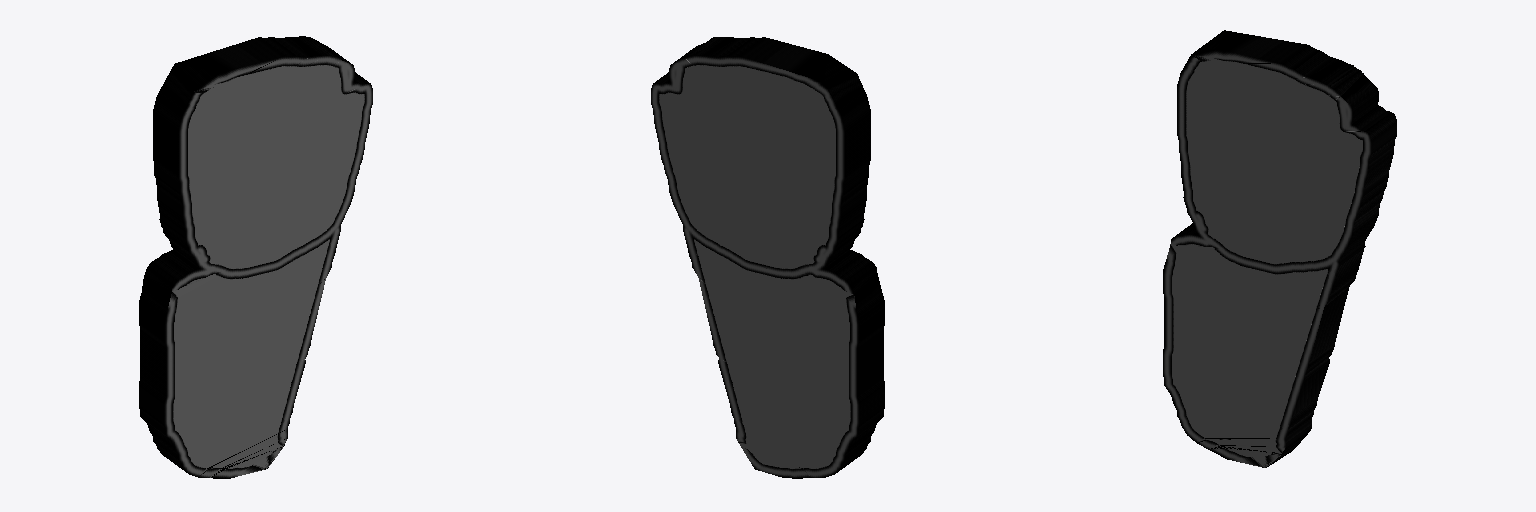
3 views of the same model, side by side, from view 1: azimuth 30°, elevation 25°; view 2: azimuth 150°, elevation 25°; view 3: azimuth 330°, elevation 25° (orthographic).
Parts seen in each view (by area): view 1: Object.1; view 2: Object.1; view 3: Object.1.
Boxes of the visible parts, box(x1,y1,x2,y2) form: Object.1: box(139, 36, 372, 478); Object.1: box(651, 37, 884, 478); Object.1: box(1163, 30, 1396, 467).
Size of the model in its own units: 86.61 by 163 by 18.4.
1 materials, 1 textured.